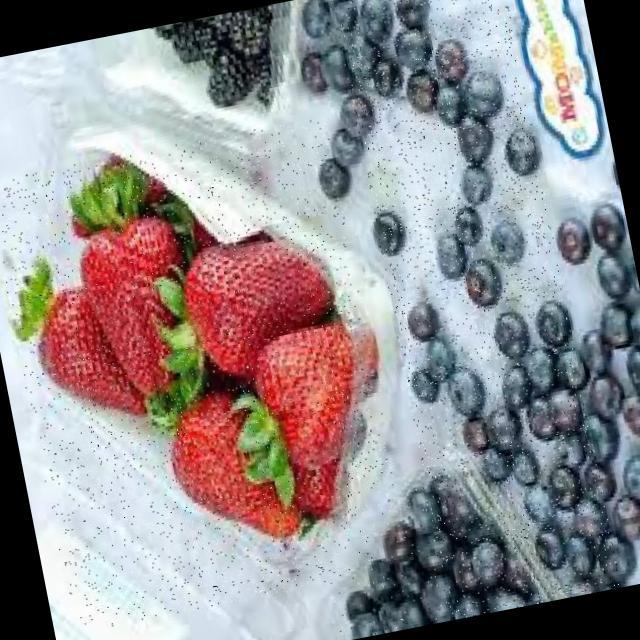blueberries: (330, 0, 621, 620), (312, 461, 546, 640)
strawberries: (0, 114, 413, 634)
